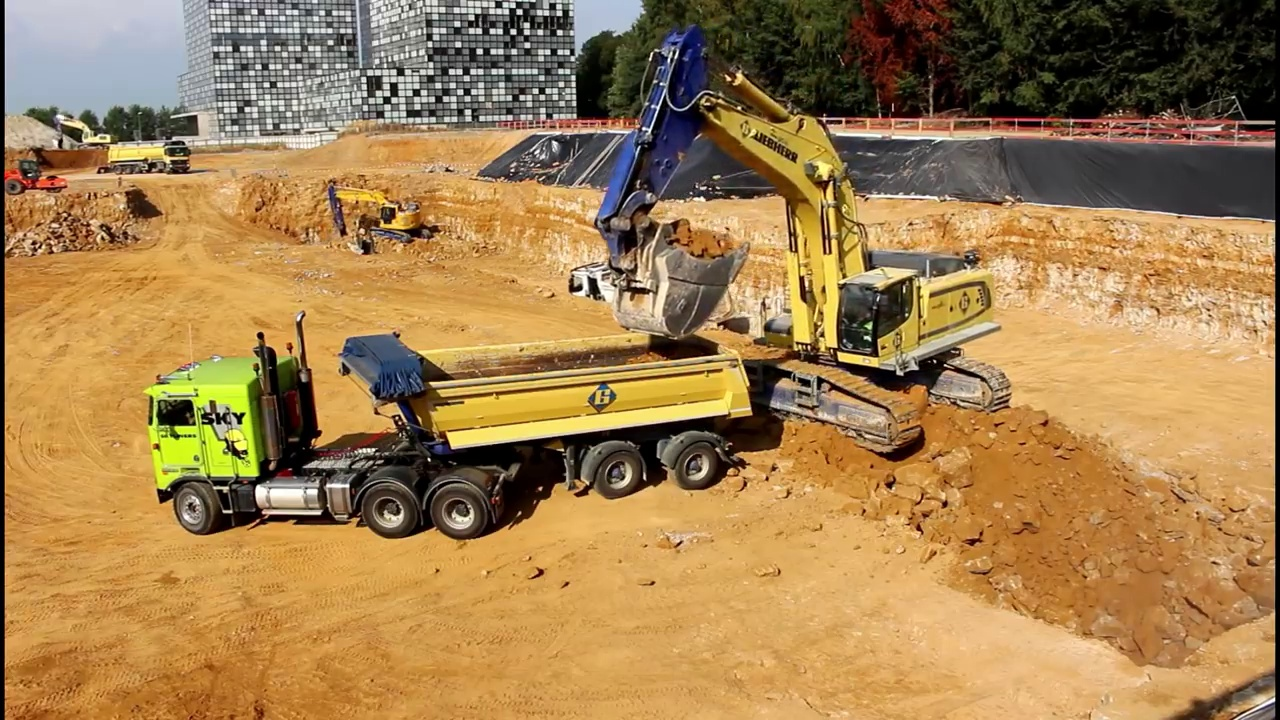compactor: (5, 158, 68, 200)
excavator: (599, 21, 1023, 455), (323, 175, 440, 261), (50, 106, 119, 155)
truck: (137, 310, 757, 545), (104, 138, 192, 179)
